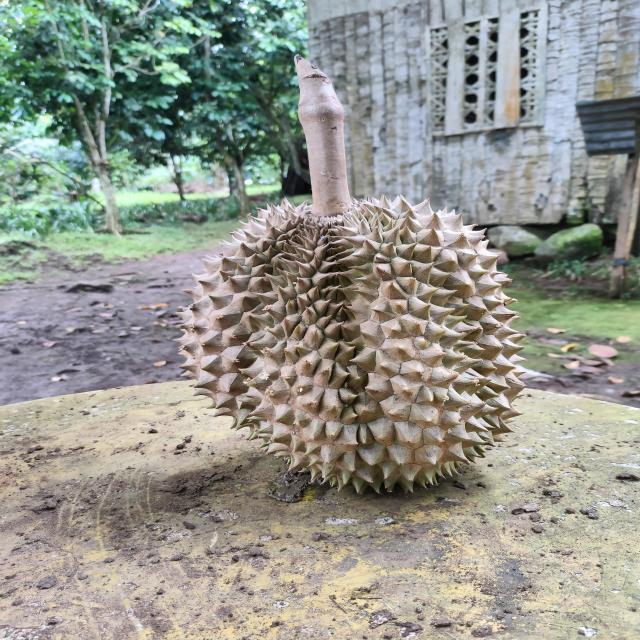mature: (180, 196, 523, 494)
